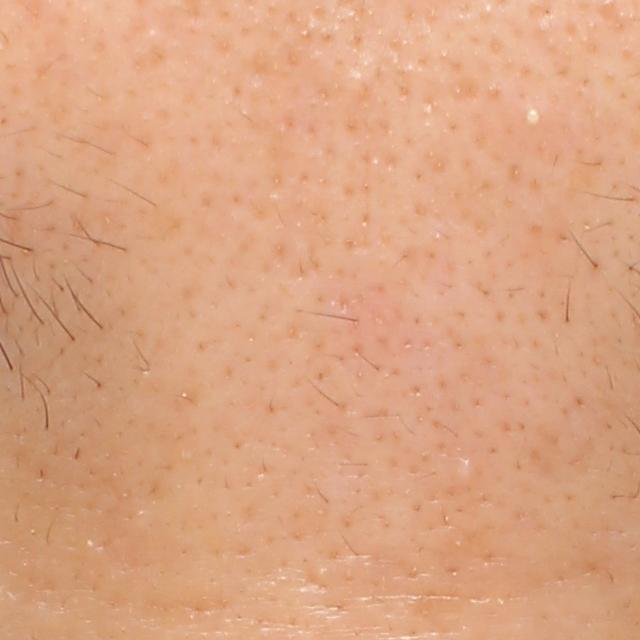pustule: (510, 99, 553, 138)
